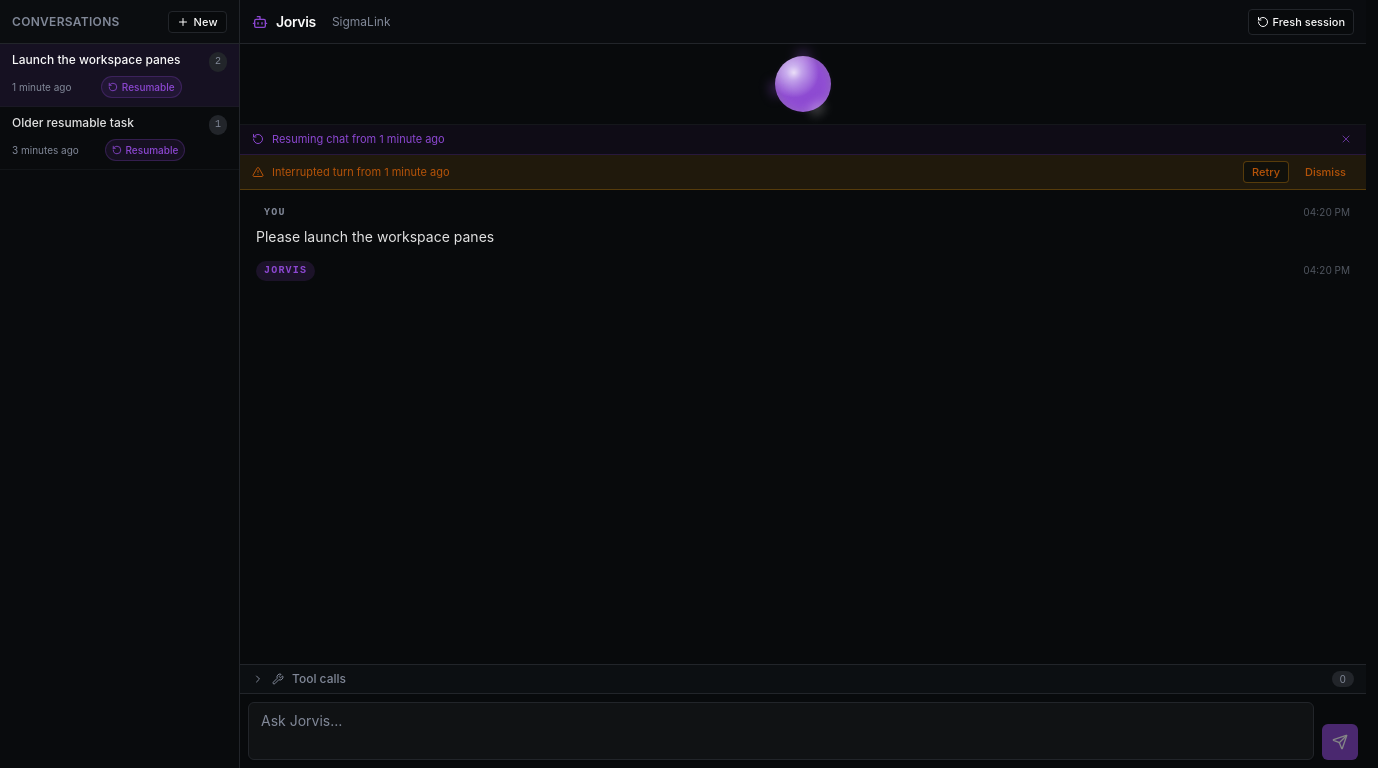
Scenario: <JorvisRoom /> resume UI › retries an interrupted turn with the previous user message
expect the element with test id "sigma-interrupted-banner" is shown: met, box [240,154,1366,190]
Click the button "Retry": (1266, 172) [1243,160,1289,183]
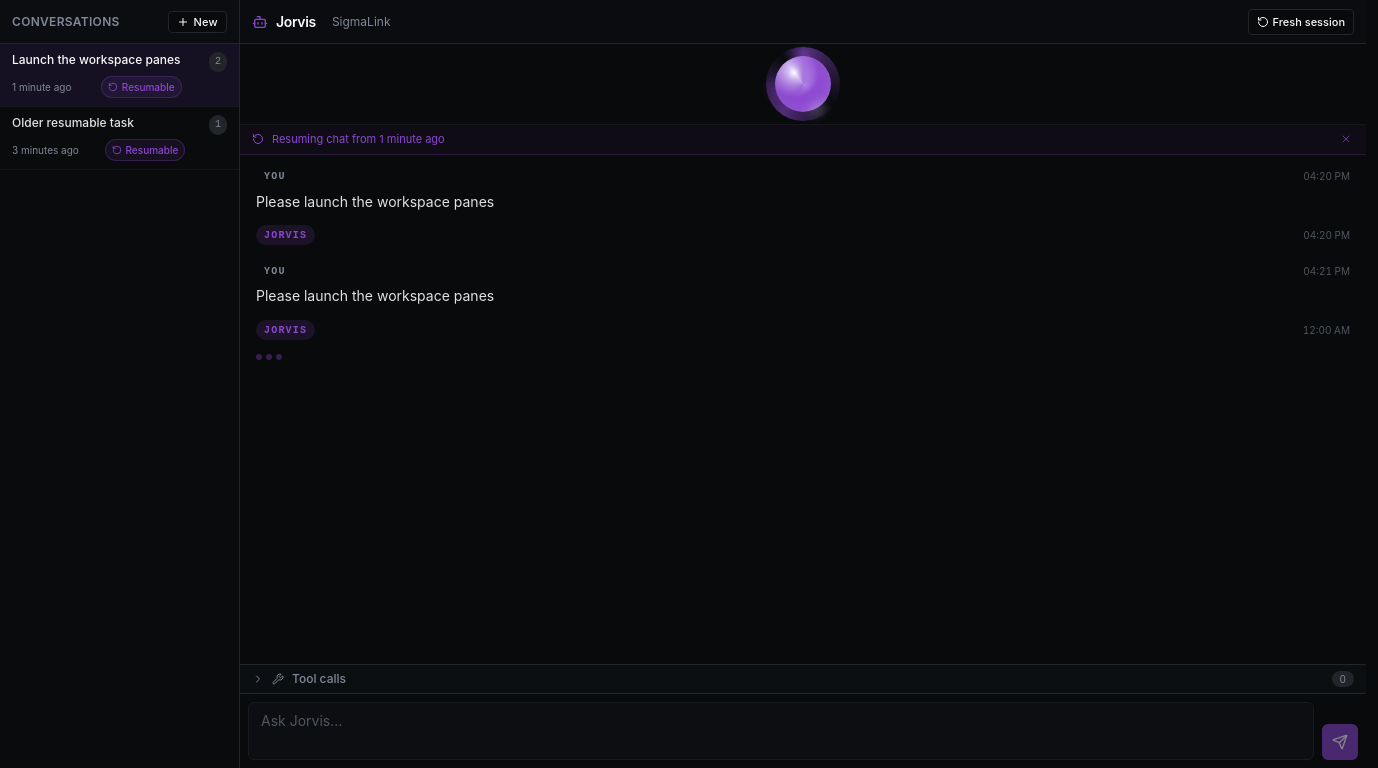
expect the element with test id "sigma-interrupted-banner" is gone: met
